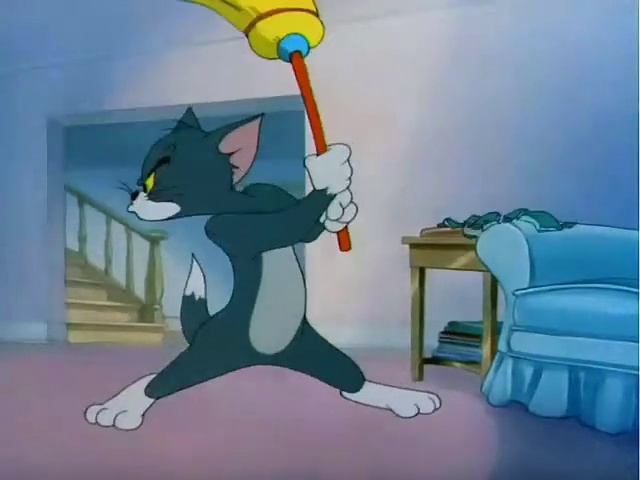tom: (83, 9, 468, 435)
